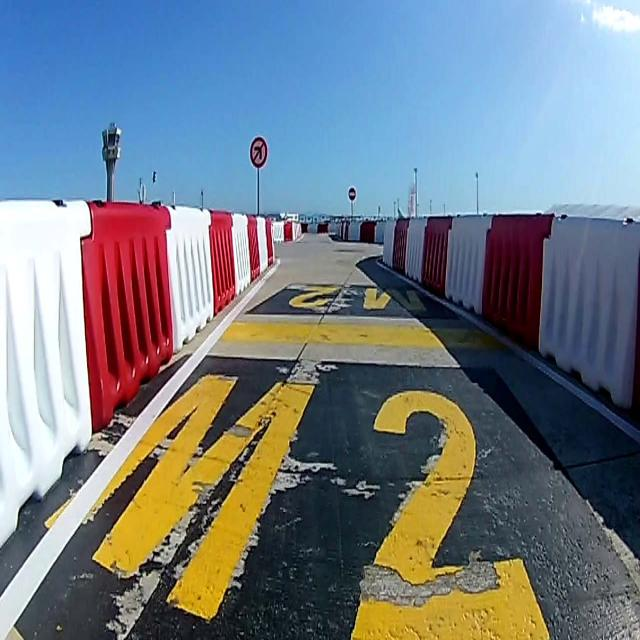girisyok: (348, 187, 356, 201)
soladonulmez: (250, 137, 267, 168)
